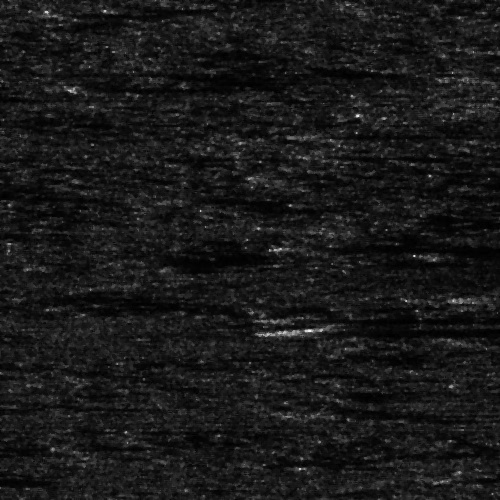object: (355, 285, 500, 310), (249, 128, 354, 139), (47, 81, 110, 92), (286, 327, 327, 334), (275, 244, 316, 249), (329, 412, 360, 415)
shadow: (79, 81, 268, 92), (302, 128, 456, 139), (307, 327, 500, 334), (296, 244, 500, 249), (274, 316, 500, 319), (345, 412, 494, 415)
